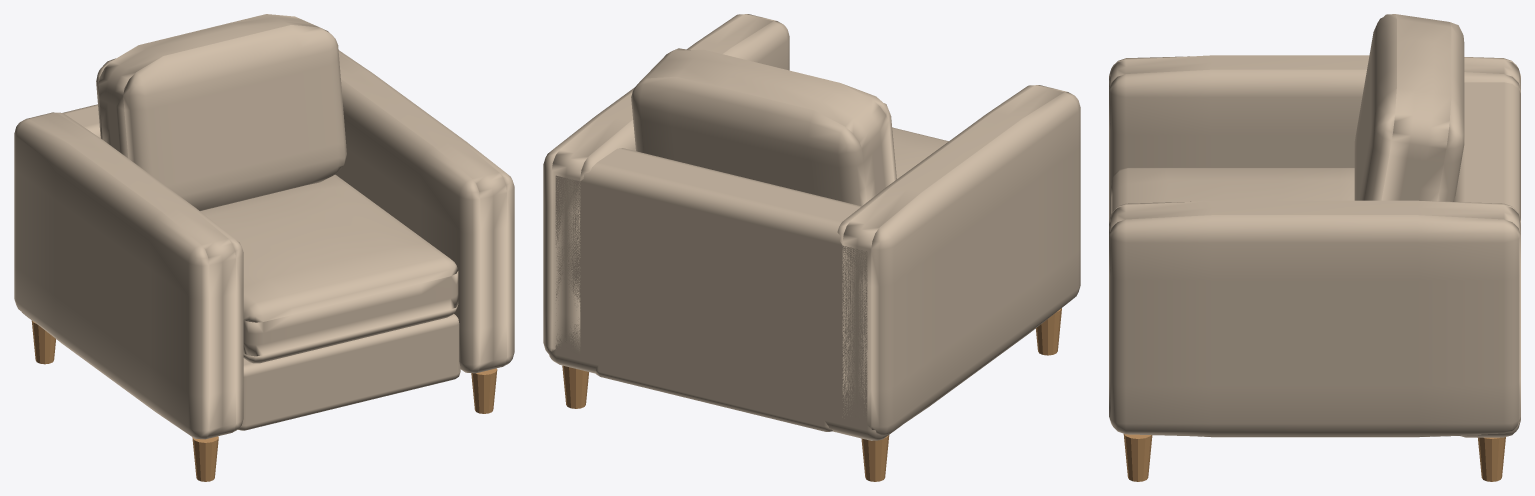
Rendered from sofa_1seat.glb.
3 renders of one model, left to right at view 1: azimuth 30°, elevation 25°; view 2: azimuth 150°, elevation 25°; view 3: azimuth 270°, elevation 25°, orthographic. The views are drawn at different scales.
Visible parts, largest first — view 1: sofa_1seat; view 2: sofa_1seat; view 3: sofa_1seat.
Boxes of the visible parts, x1,y1,x2,y2 form: sofa_1seat: [14, 14, 514, 481]; sofa_1seat: [543, 14, 1080, 481]; sofa_1seat: [1109, 14, 1520, 481].
Bounding box in the file's own units: 0.85 × 0.8 × 0.85.
